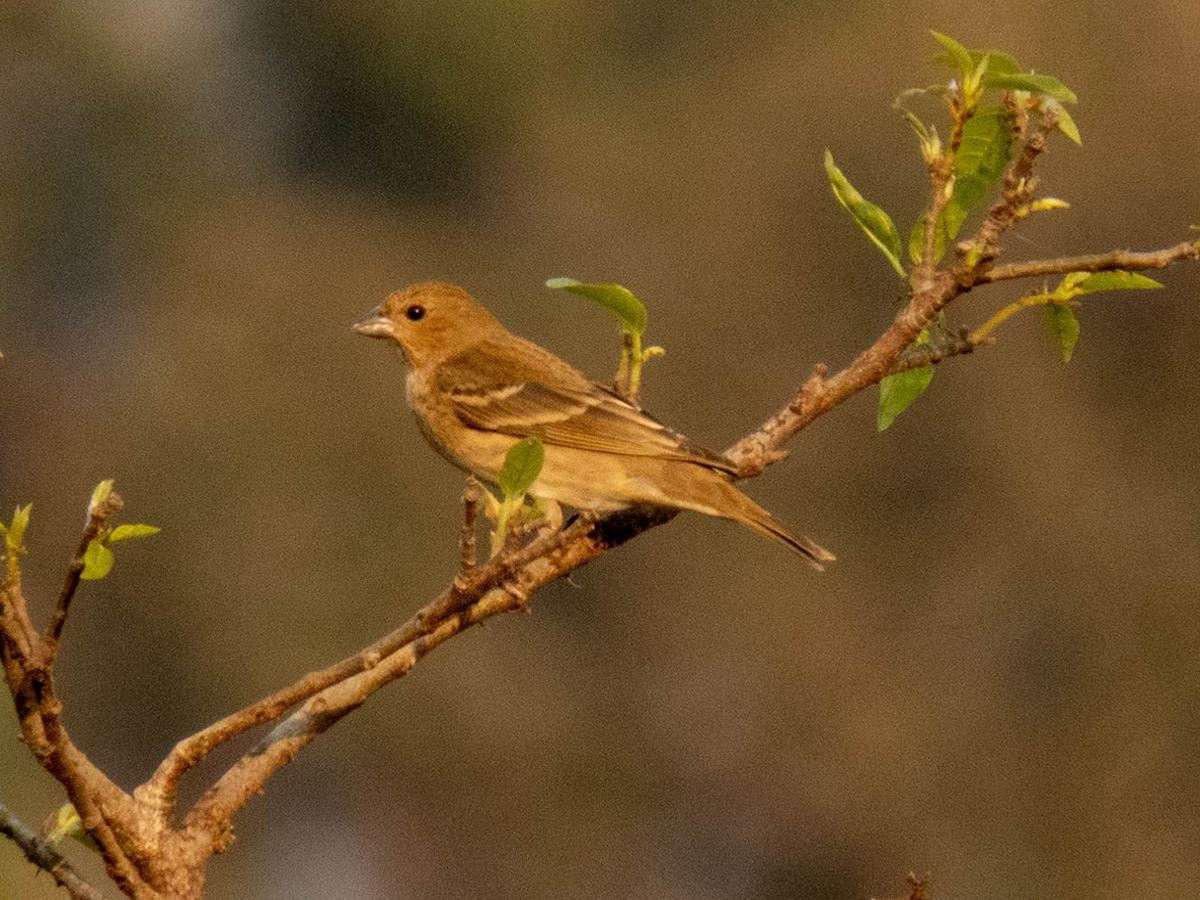rosefinch: (331, 242, 914, 622)
